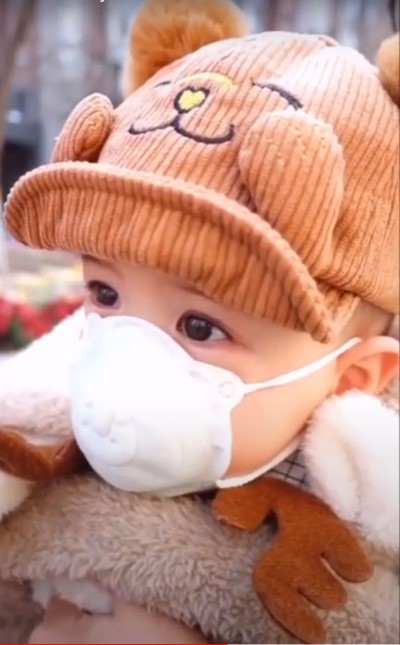face_with_mask: (49, 39, 398, 502)
